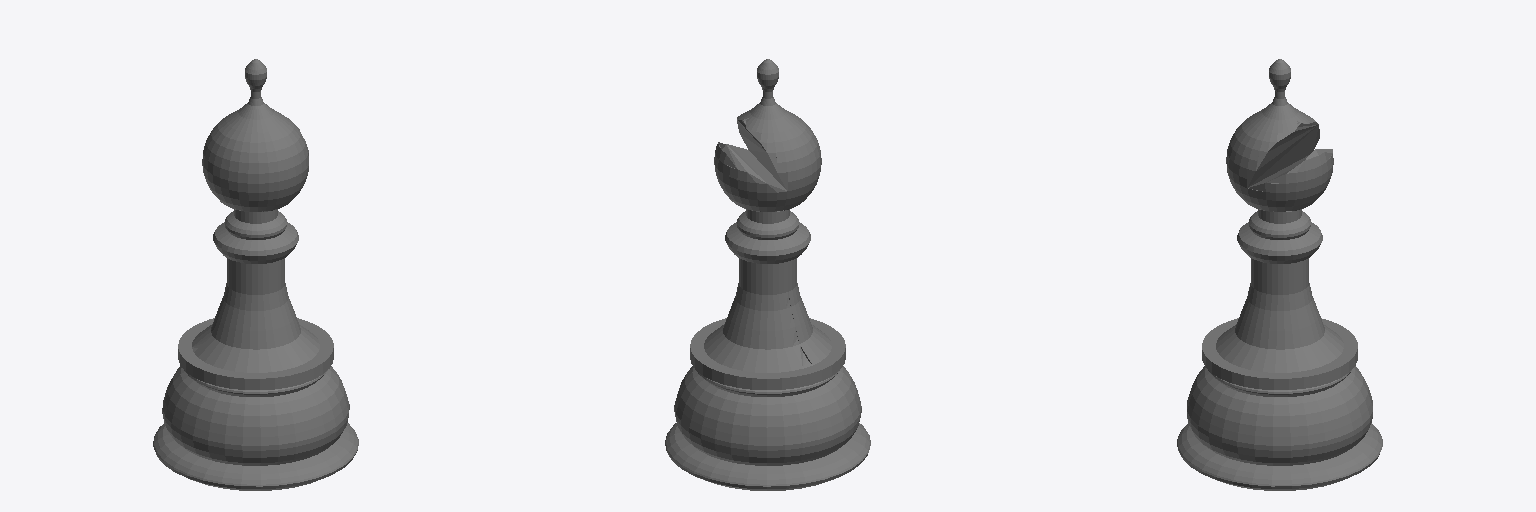
Rendered from bishop.obj.
3 views of the same model, side by side, from view 1: azimuth 30°, elevation 25°; view 2: azimuth 150°, elevation 25°; view 3: azimuth 270°, elevation 25° (orthographic).
Visible parts, largest first — view 1: goniec_1_Circle.006; view 2: goniec_1_Circle.006; view 3: goniec_1_Circle.006.
Part boxes in pixels (left/top/right/bottom): goniec_1_Circle.006: left=153, top=59, right=358, bottom=490; goniec_1_Circle.006: left=665, top=59, right=870, bottom=490; goniec_1_Circle.006: left=1177, top=59, right=1382, bottom=490.
Bounding box in the file's own units: 0.0862 × 0.1824 × 0.0862.